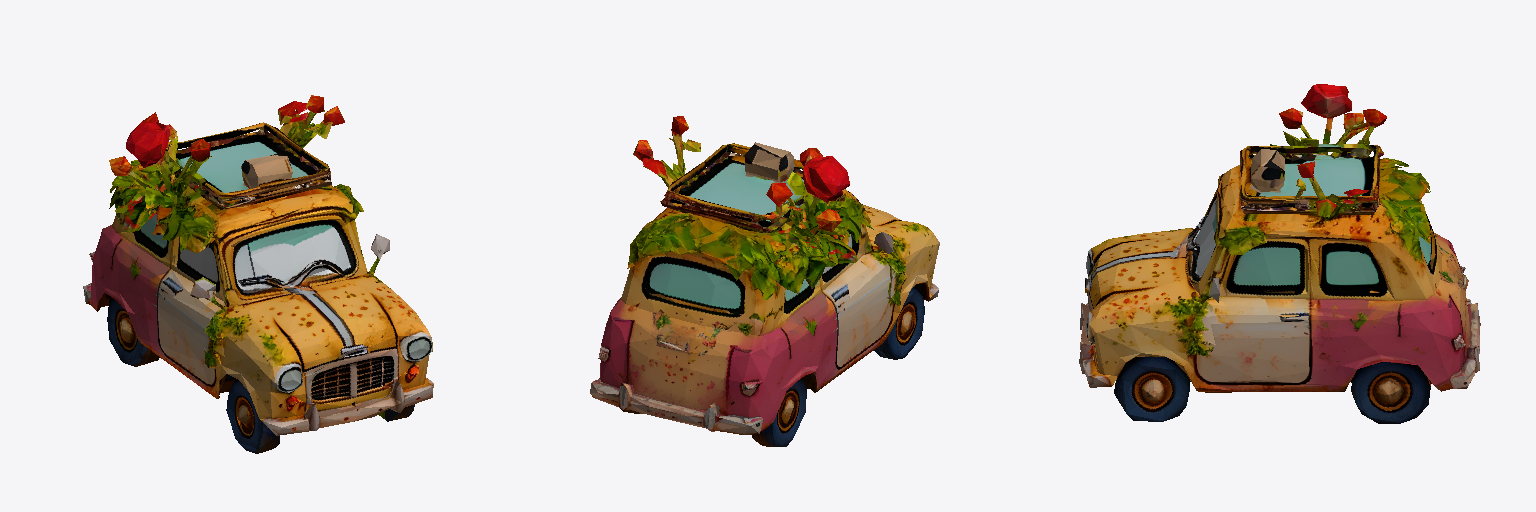
3 views of the same model, side by side, from view 1: azimuth 30°, elevation 25°; view 2: azimuth 150°, elevation 25°; view 3: azimuth 270°, elevation 25° (orthographic).
Visible parts, largest first — view 1: 1_1234_50_5.0_256_8000; view 2: 1_1234_50_5.0_256_8000; view 3: 1_1234_50_5.0_256_8000.
Part boxes in pixels (x1,y1,x2,y2): 1_1234_50_5.0_256_8000: (83, 95, 433, 453); 1_1234_50_5.0_256_8000: (590, 116, 939, 446); 1_1234_50_5.0_256_8000: (1079, 84, 1480, 423).
Size of the model in its own units: 1.27 by 1.44 by 1.99.
1 materials, 1 textured.